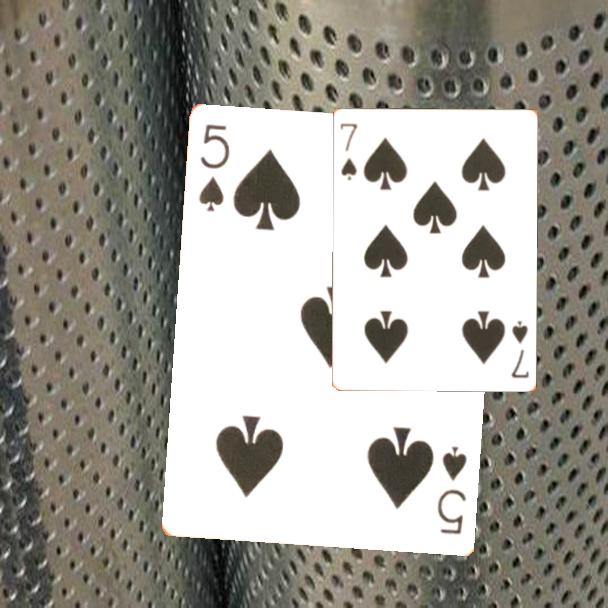s05: (196, 121, 233, 215), (434, 443, 470, 538)
s07: (337, 119, 360, 182), (508, 317, 531, 380)
